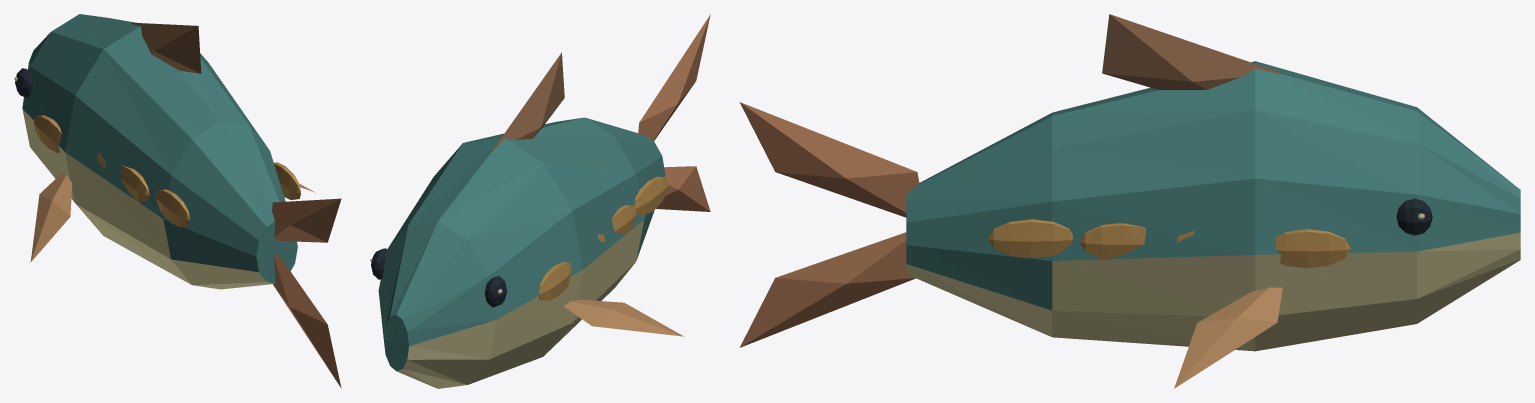
The model's file is fish.glb.
3 renders of one model, left to right at view 1: azimuth 30°, elevation 25°; view 2: azimuth 150°, elevation 25°; view 3: azimuth 270°, elevation 25°, orthographic. The views are drawn at different scales.
Visible parts, largest first — view 1: Body, Tail; view 2: Body, Tail; view 3: Body, Tail.
Part boxes in pixels (left/top/right/bottom): Body: left=14, top=14, right=315, bottom=289; Tail: left=272, top=198, right=341, bottom=388; Body: left=370, top=52, right=683, bottom=388; Tail: left=638, top=14, right=710, bottom=211; Body: left=906, top=14, right=1520, bottom=388; Tail: left=739, top=102, right=919, bottom=347.
Size of the model in its own units: 0.33 by 0.285 by 0.604.
